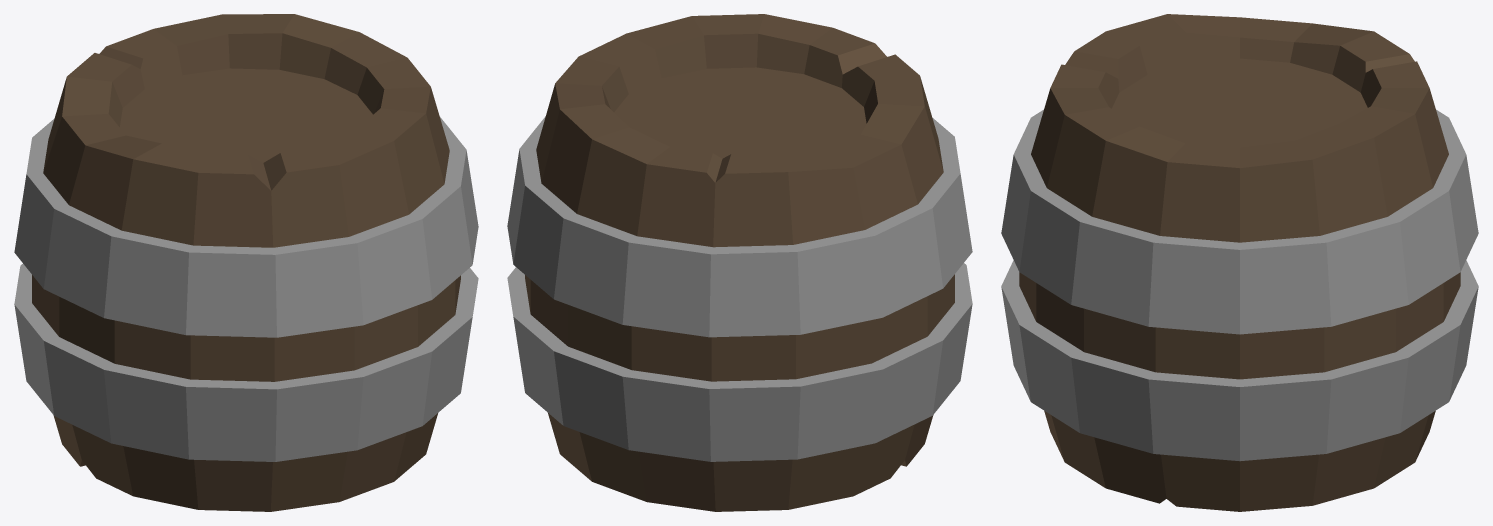
File: barrel.fbx
The picture shows the model from 3 angles, left to right: view 1: azimuth 30°, elevation 25°; view 2: azimuth 150°, elevation 25°; view 3: azimuth 270°, elevation 25°; orthographic projection.
Parts seen in each view (by area): view 1: Cylinder; view 2: Cylinder; view 3: Cylinder.
Boxes of the visible parts, x1=… form: Cylinder: x1=14, y1=14, x2=478, y2=511; Cylinder: x1=507, y1=14, x2=972, y2=511; Cylinder: x1=1001, y1=14, x2=1478, y2=511.
Size of the model in its own units: 252 by 204 by 252.
